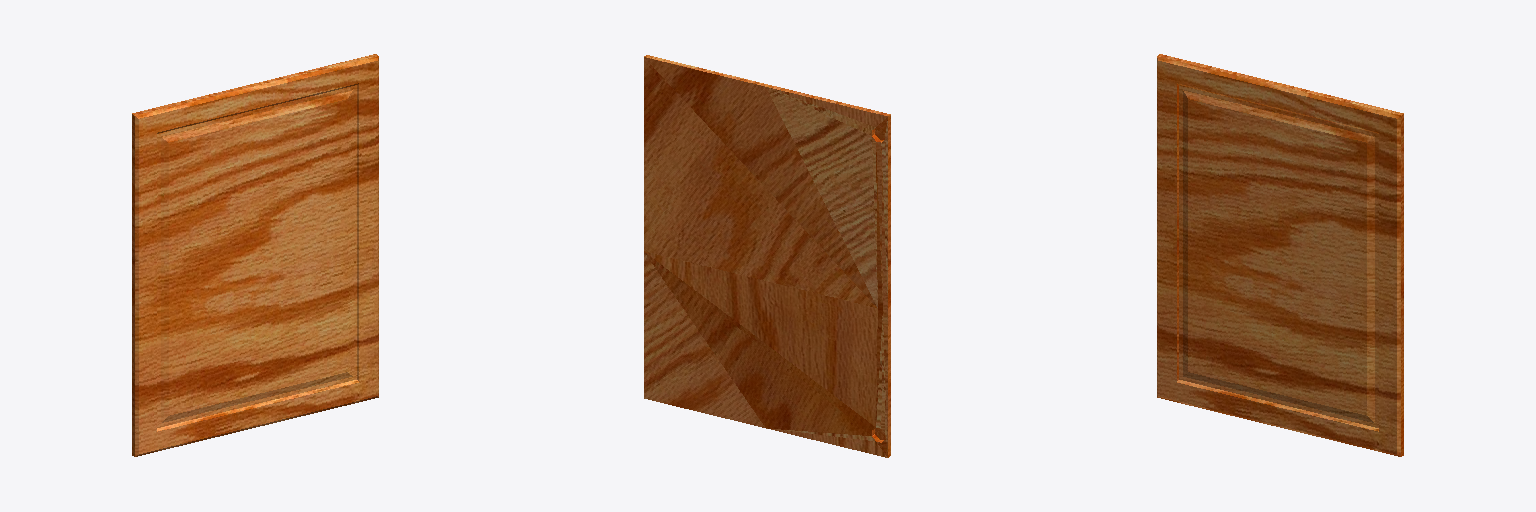
3 renders of one model, left to right at view 1: azimuth 30°, elevation 25°; view 2: azimuth 150°, elevation 25°; view 3: azimuth 330°, elevation 25°, orthographic.
Parts seen in each view (by area): view 1: model_model.005; view 2: model_model.005; view 3: model_model.005.
Part boxes in pixels (bbox=[...]): model_model.005: bbox=[132, 54, 378, 456]; model_model.005: bbox=[644, 55, 890, 457]; model_model.005: bbox=[1157, 54, 1403, 456].
Size of the model in its own units: 0.597 by 0.797 by 0.018.
Materials: 1 (1 with a texture image).